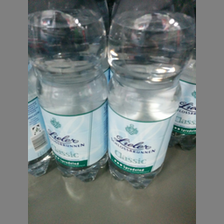water: (106, 1, 194, 188), (28, 1, 107, 184)
